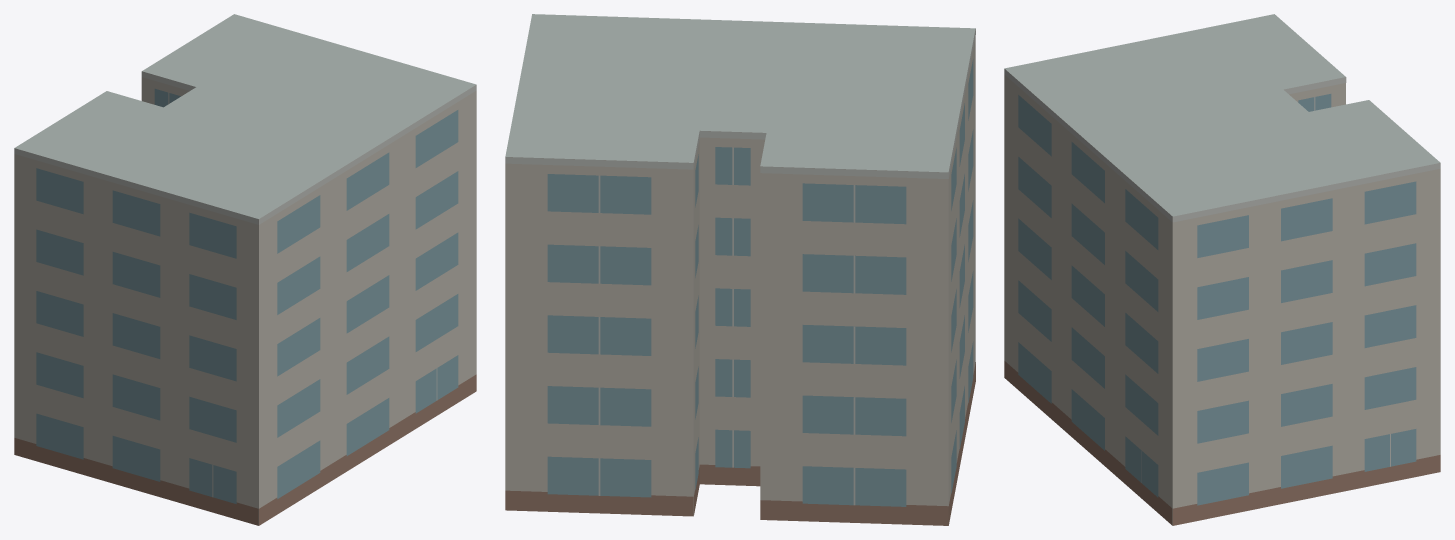
The model's file is survey-upis-32733496.glb.
3 views of the same model, side by side, from view 1: azimuth 30°, elevation 25°; view 2: azimuth 150°, elevation 25°; view 3: azimuth 270°, elevation 25° (orthographic). The views are drawn at different scales.
Visible parts, largest first — view 1: survey-upis-32733496.tmp; view 2: survey-upis-32733496.tmp; view 3: survey-upis-32733496.tmp.
Boxes of the visible parts, box(x1,y1,x2,y2) form: survey-upis-32733496.tmp: box(14, 14, 476, 525); survey-upis-32733496.tmp: box(505, 14, 975, 525); survey-upis-32733496.tmp: box(1004, 14, 1440, 525).
Bounding box in the file's own units: 18 × 12.8 × 16.38.
